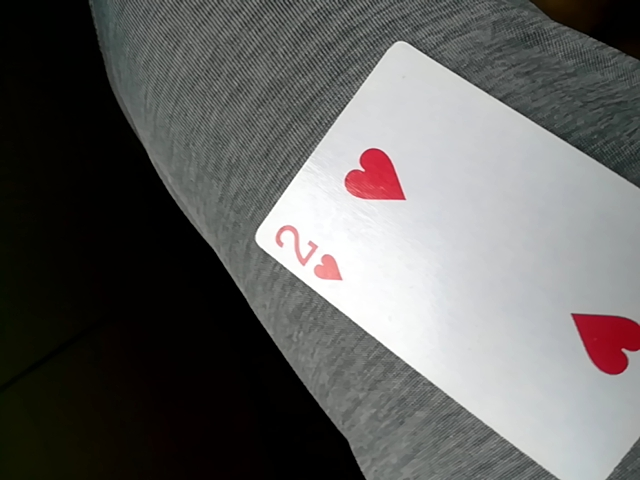hx 2: (232, 42, 639, 478)
